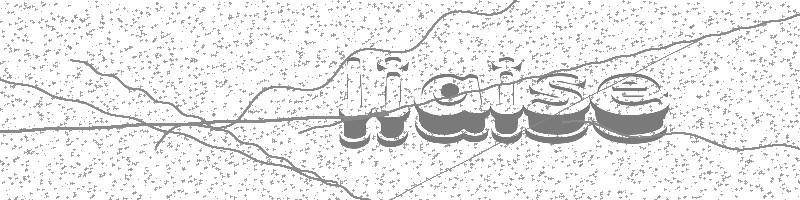a: (415, 74, 490, 143)
e: (590, 73, 669, 144)
i: (375, 57, 411, 147), (490, 57, 525, 144)
l: (339, 57, 372, 148)
s: (524, 73, 589, 144)
